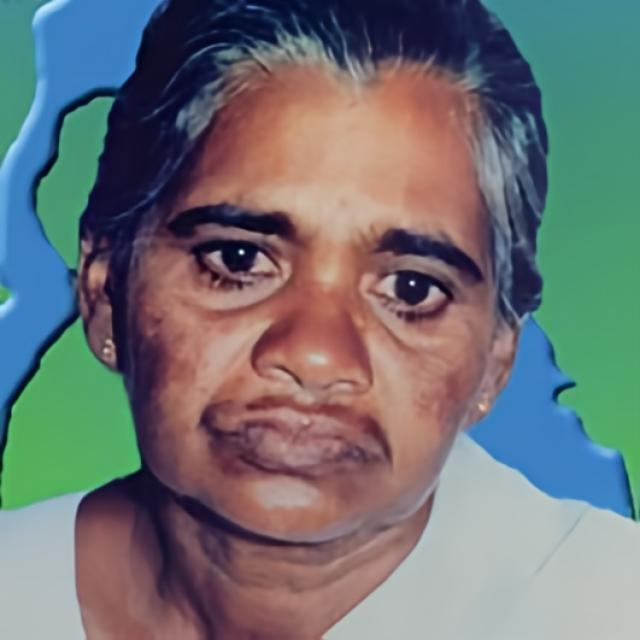sad: (126, 60, 498, 548)
